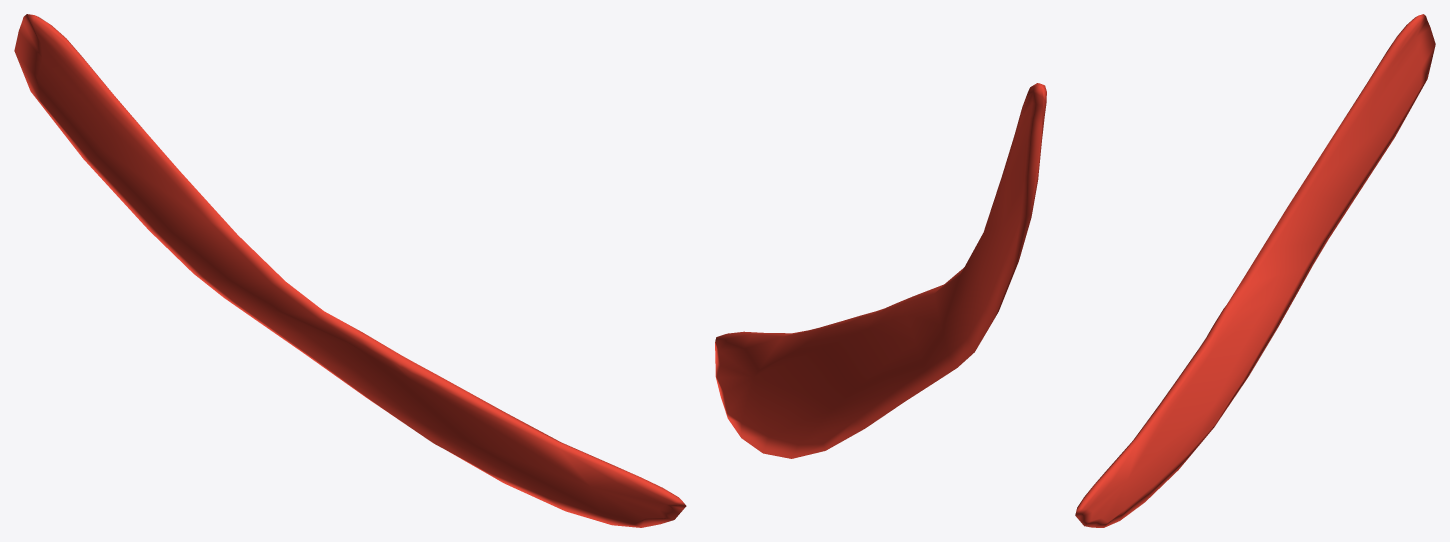
The model's file is Depressor_labii_superioris-_Insertion.r_Generated_Mesh_From_X3D.glb.
3 views of the same model, side by side, from view 1: azimuth 30°, elevation 25°; view 2: azimuth 150°, elevation 25°; view 3: azimuth 270°, elevation 25° (orthographic). The views are drawn at different scales.
Parts seen in each view (by area): view 1: Depressor_labii_superioris-_Insertion.r_Generated_Mesh_From_; view 2: Depressor_labii_superioris-_Insertion.r_Generated_Mesh_From_; view 3: Depressor_labii_superioris-_Insertion.r_Generated_Mesh_From_.
Part boxes in pixels (bbox=[...]): Depressor_labii_superioris-_Insertion.r_Generated_Mesh_From_: bbox=[14, 14, 686, 527]; Depressor_labii_superioris-_Insertion.r_Generated_Mesh_From_: bbox=[715, 83, 1046, 458]; Depressor_labii_superioris-_Insertion.r_Generated_Mesh_From_: bbox=[1075, 14, 1435, 527].
Bounding box in the file's own units: 0.0182 × 0.0183 × 0.0166.
